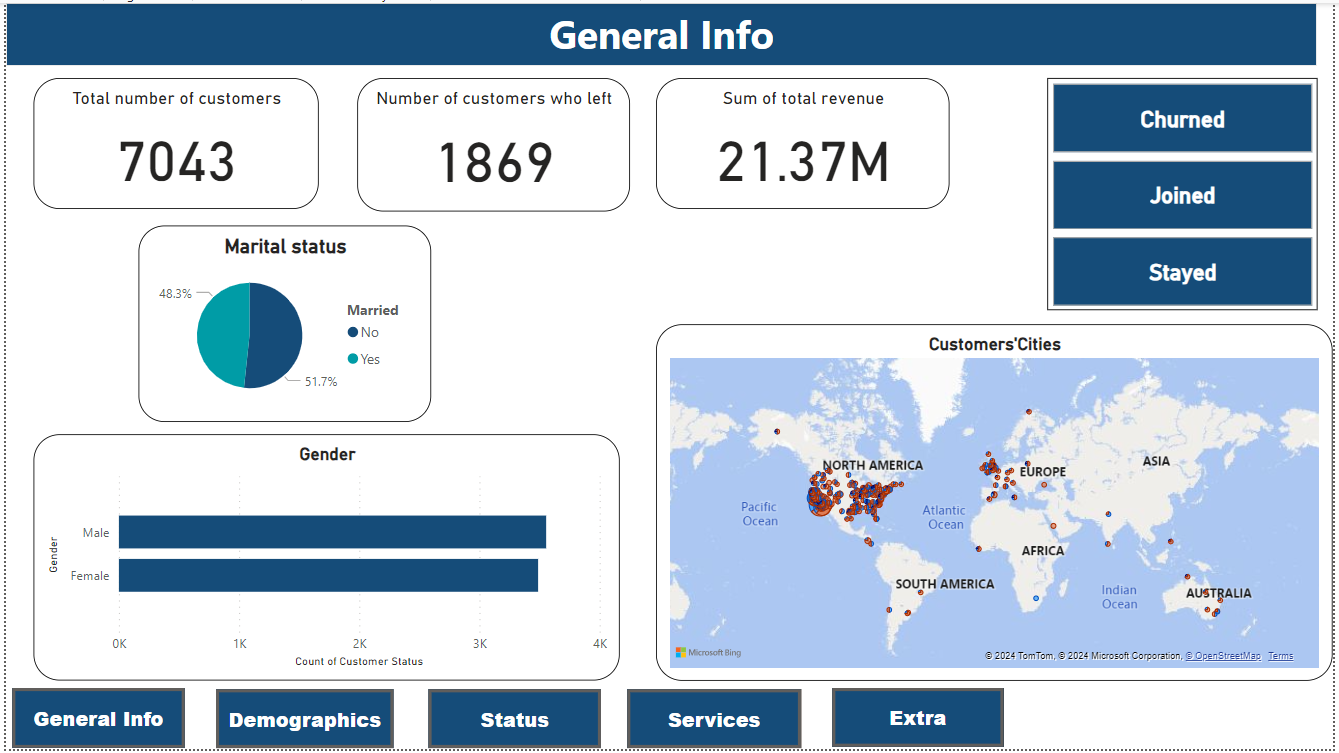

What the dashboard file says about the page in this screenshot:
{"tool":"powerbi","page":{"name":"Page 1","canvas":[1280,720],"ordinal":0},"visuals":[{"type":"pieChart","fields":{"Y":["CountNonNull(churn_fact.CustomerID)"],"Category":["demographics_dim.Married"]},"box":[55.5,72.4,279.8,279.8],"z":0},{"type":"slicer","fields":{"Values":["status_dim.Customer Status"]},"box":[470.4,47,258.1,165.2],"z":1000},{"type":"clusteredBarChart","fields":{"Category":["demographics_dim.Gender"],"Y":["CountNonNull(churn_fact.Customer Status)"],"Series":["churn_fact.Customer Status"]},"box":[651.7,110.6,606.7,226.1],"z":1001},{"type":"map","fields":{"Category":["demographics_dim.City"],"Size":["CountNonNull(demographics_dim.Customer ID)"],"Series":["churn_fact.Customer Status"]},"box":[15.8,359.9,623.7,318.5],"z":1002},{"type":"donutChart","fields":{"Category":["demographics_dim.Number of Dependents"],"Y":["CountNonNull(churn_fact.Customer Status)"]},"box":[695.4,369.6,562.9,308.8],"z":1003}]}

Visuals, with their boxes in screenshot pixels (x1, y1, x2, y2), scaled from the page's 1280x720 canvas onto the 1339x753 screenshot:
pieChart - CountNonNull(churn_fact.CustomerID) x demographics_dim.Married: [x1=58, y1=76, x2=351, y2=368]
slicer - status_dim.Customer Status: [x1=492, y1=49, x2=762, y2=222]
clusteredBarChart - demographics_dim.Gender x CountNonNull(churn_fact.Customer Status): [x1=682, y1=116, x2=1316, y2=352]
map - demographics_dim.City x CountNonNull(demographics_dim.Customer ID): [x1=17, y1=376, x2=669, y2=709]
donutChart - demographics_dim.Number of Dependents x CountNonNull(churn_fact.Customer Status): [x1=727, y1=387, x2=1316, y2=709]
